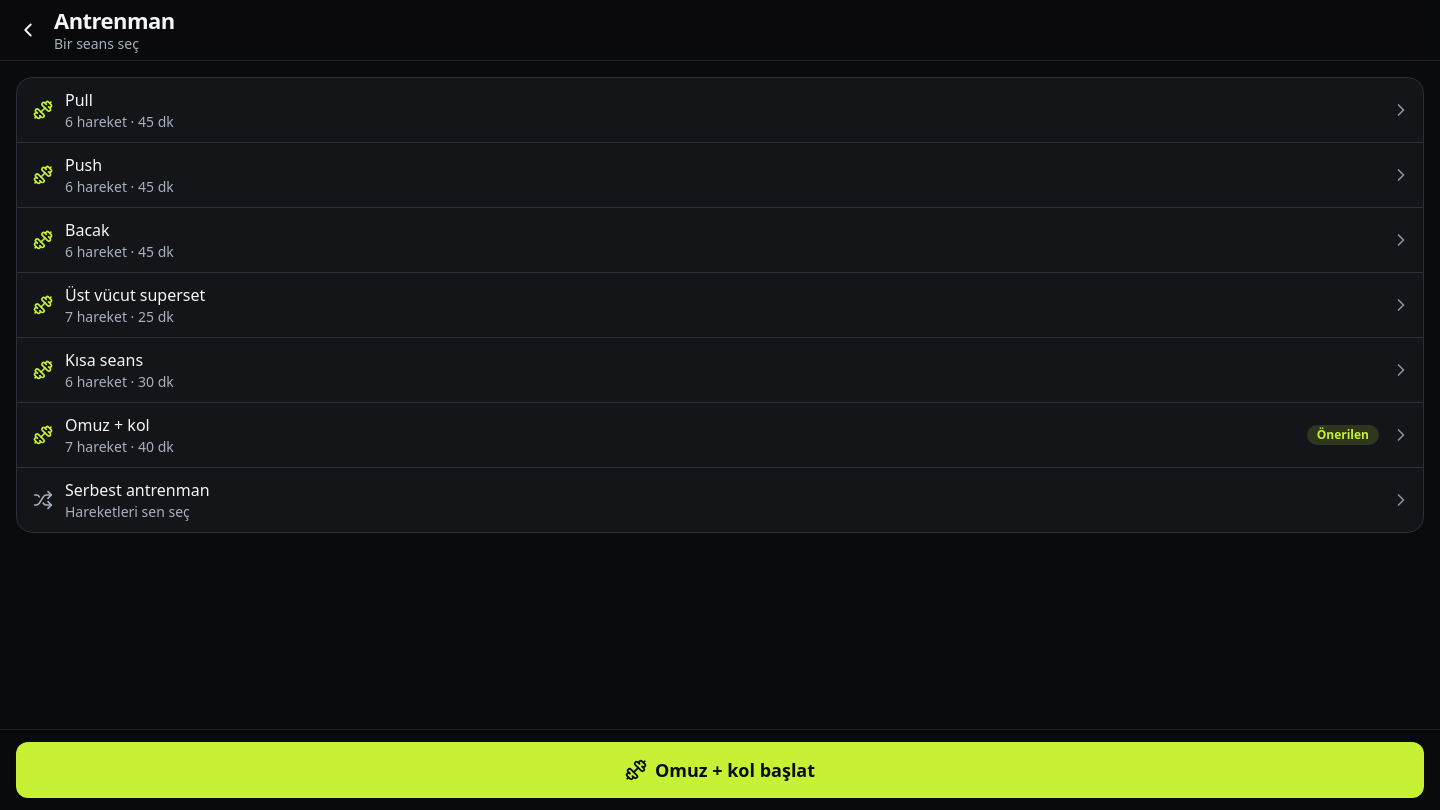
Test: SessionScreen without a running session › starts a free session with no exercises
Click the button "Serbest antrenman Hareketleri sen seç" at (137, 490), box x1=17 y1=468 x2=1423 y2=532
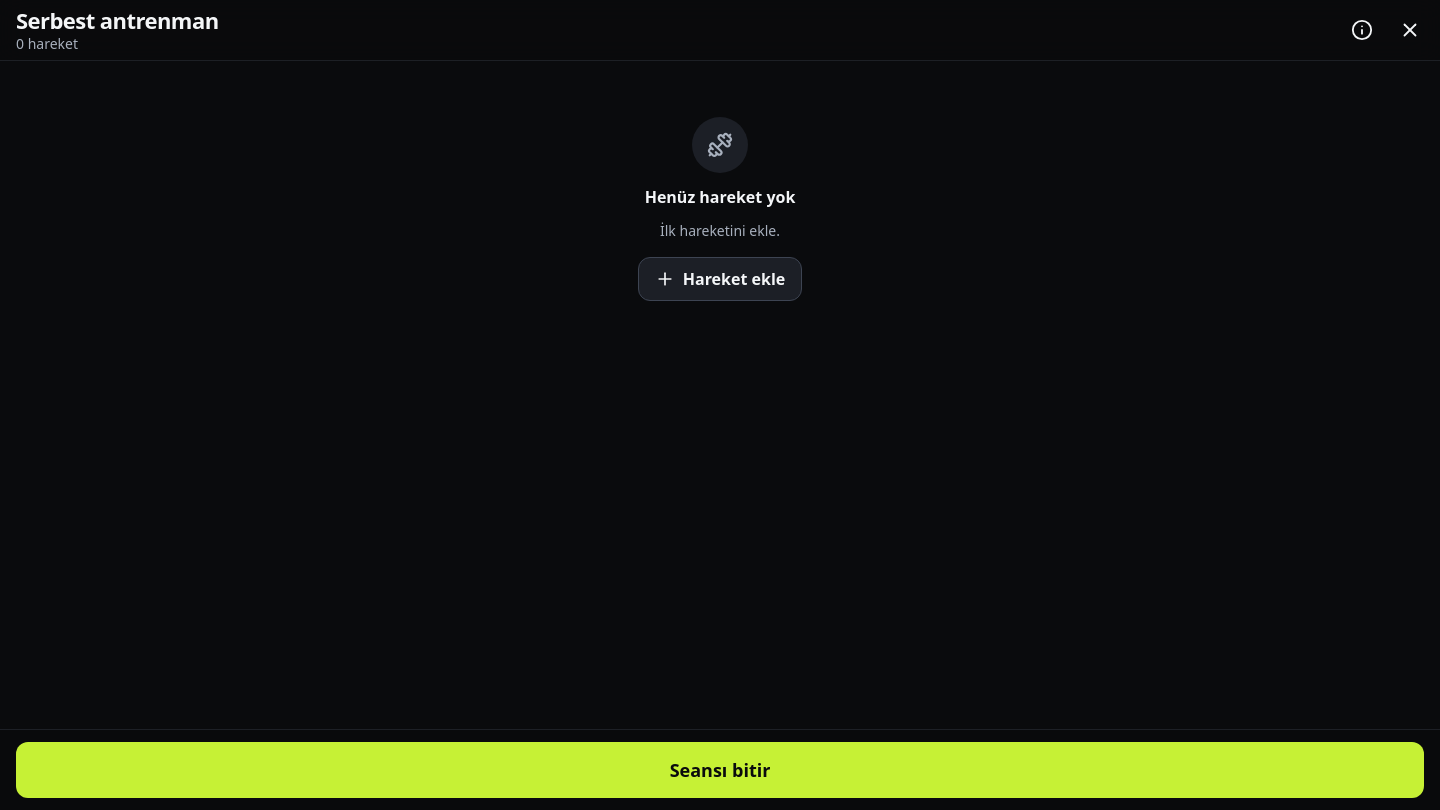
expect the heading "Serbest antrenman" is shown: met, box x1=16 y1=5 x2=218 y2=35
